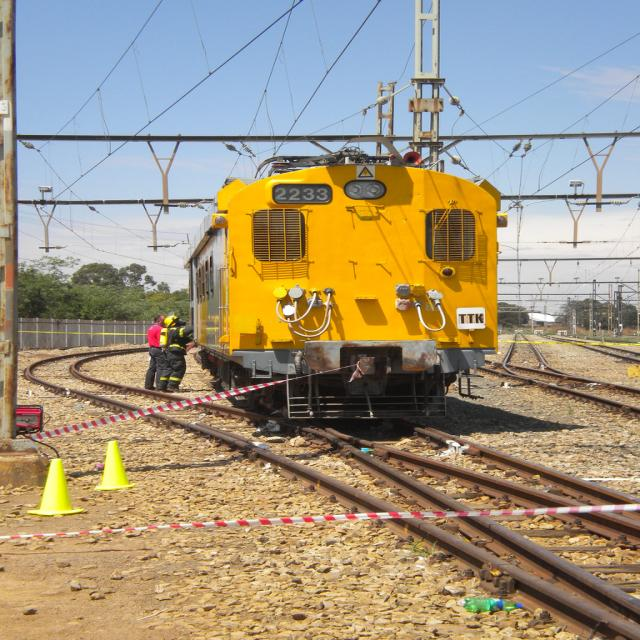no_fire: (23, 50, 583, 480)
